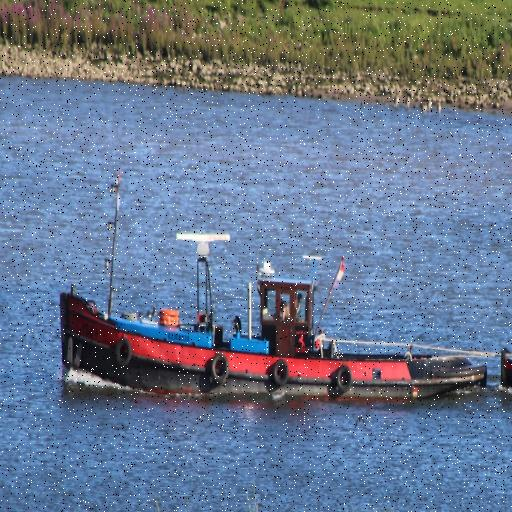tugboat: (59, 228, 492, 423)
